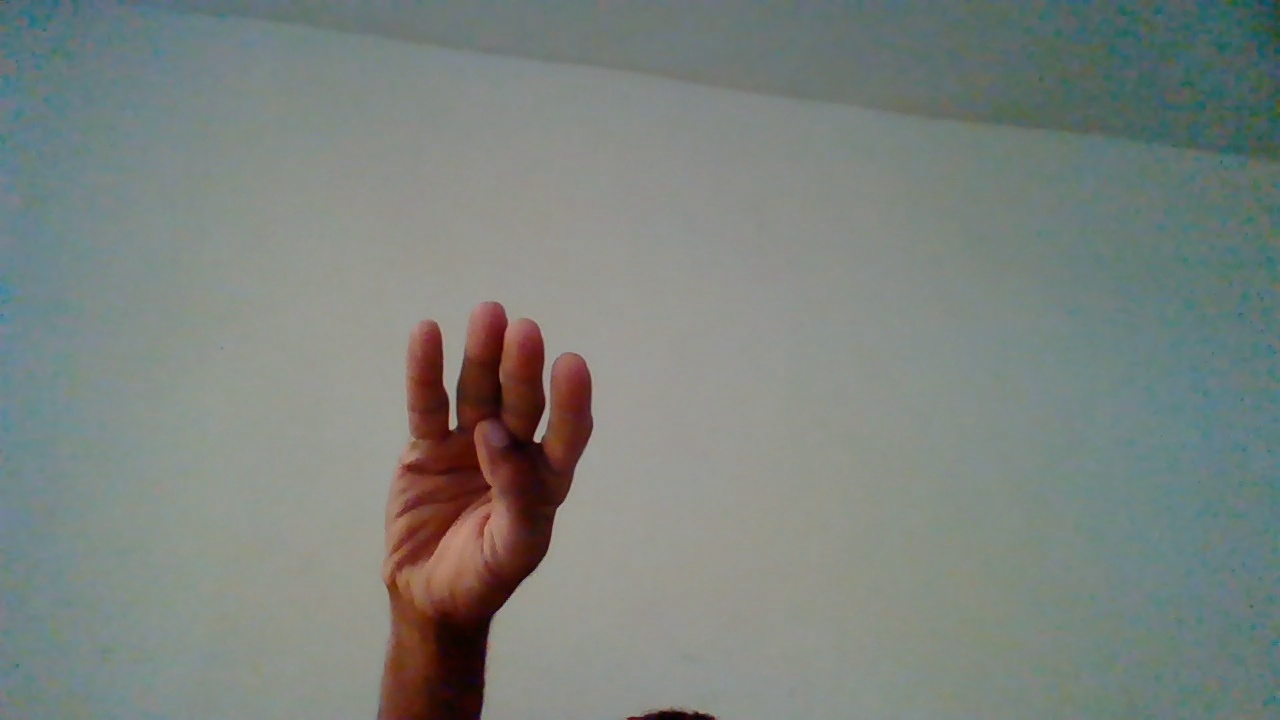me: (379, 300, 601, 689)
